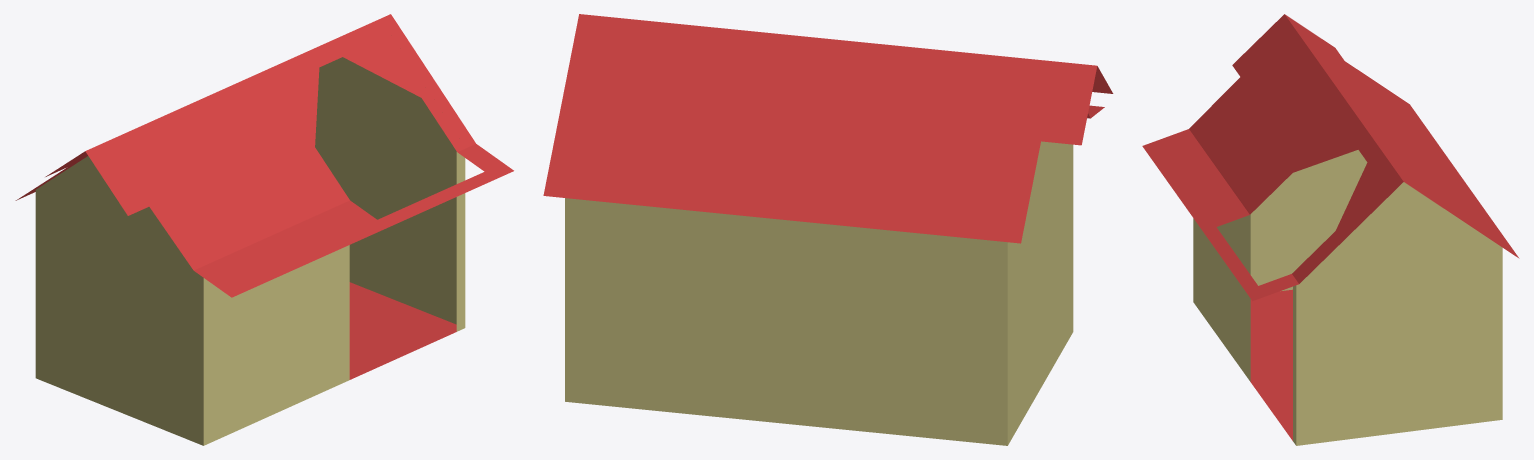
3 views of the same model, side by side, from view 1: azimuth 30°, elevation 25°; view 2: azimuth 150°, elevation 25°; view 3: azimuth 270°, elevation 25° (orthographic). The views are drawn at different scales.
Size of the model in its own units: 24.73 by 20.39 by 15.29.
